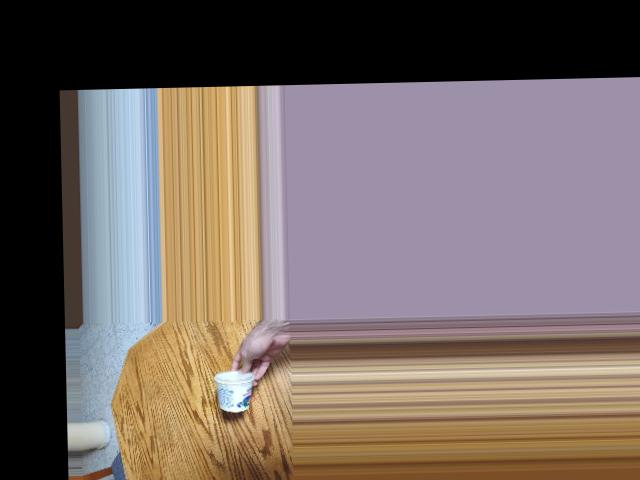cotage: (206, 371, 247, 411)
